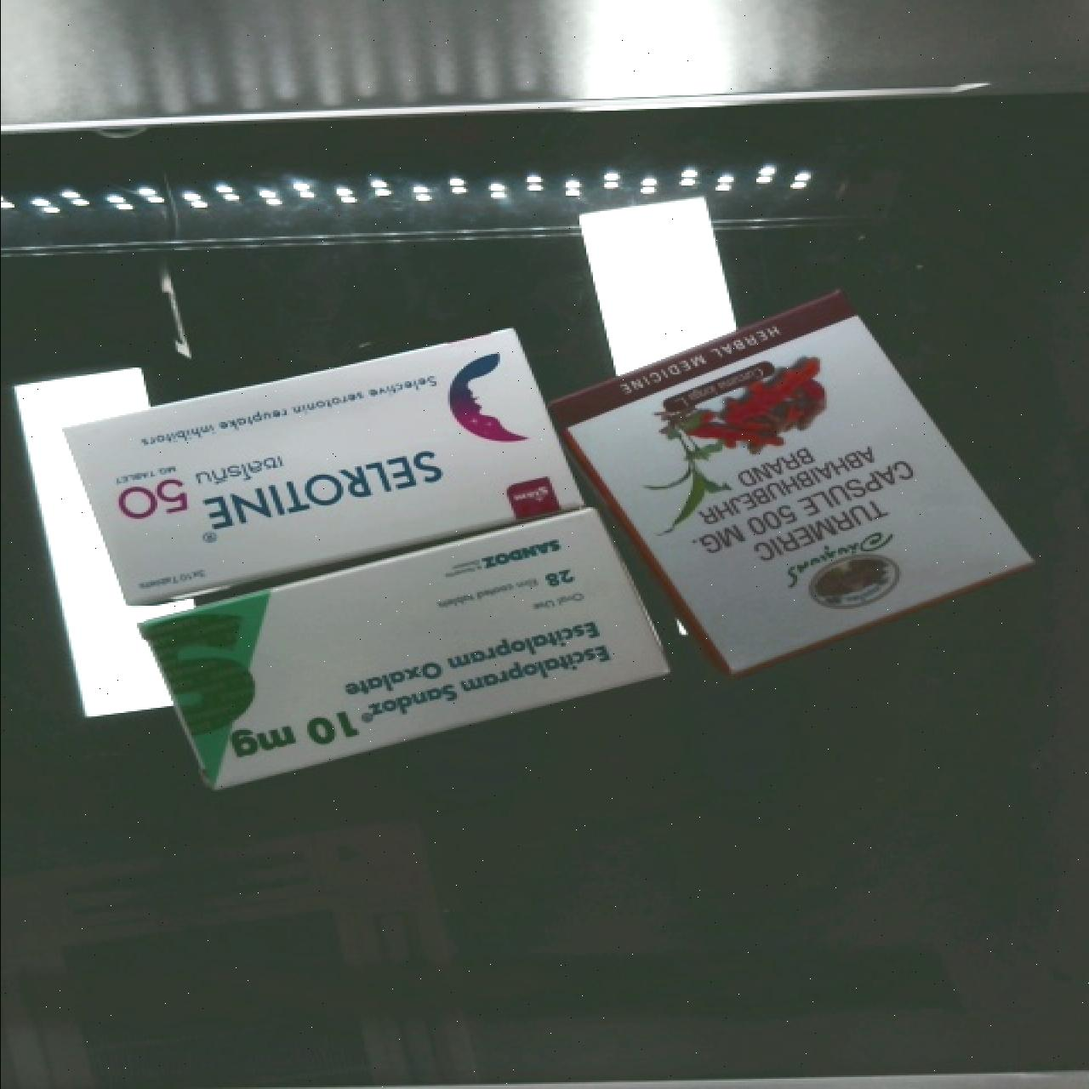medicine_label_obb: (204, 588, 632, 783), (629, 393, 957, 608), (92, 404, 470, 573)
